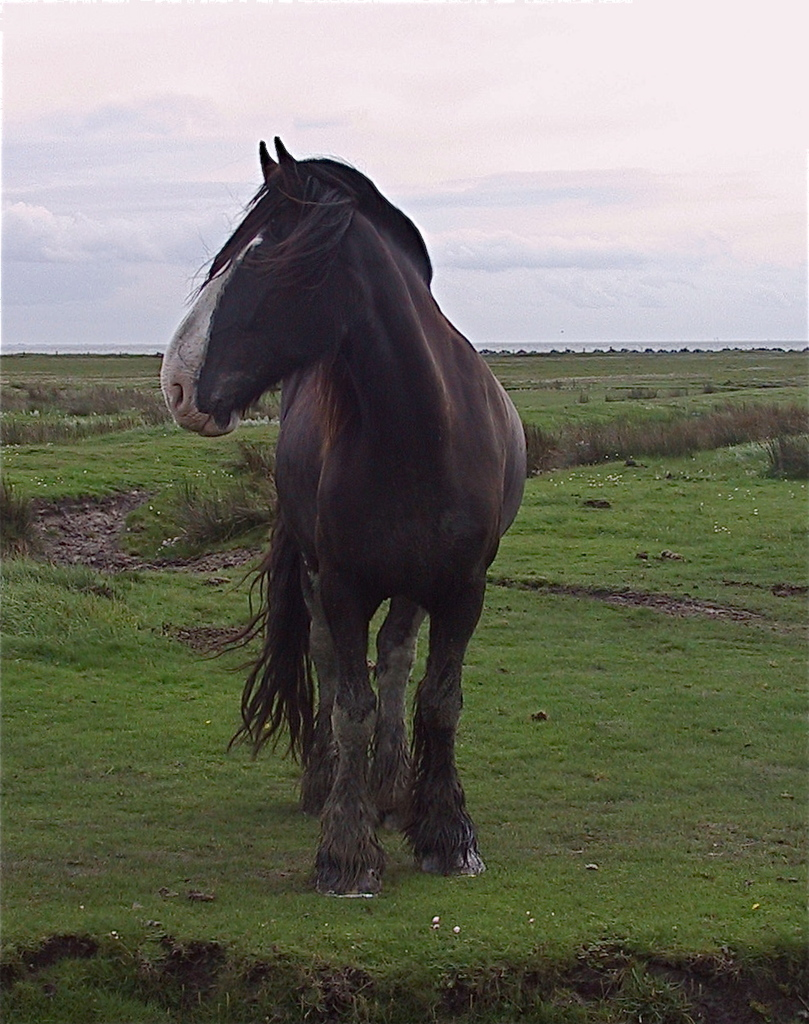horse: (160, 131, 528, 903)
